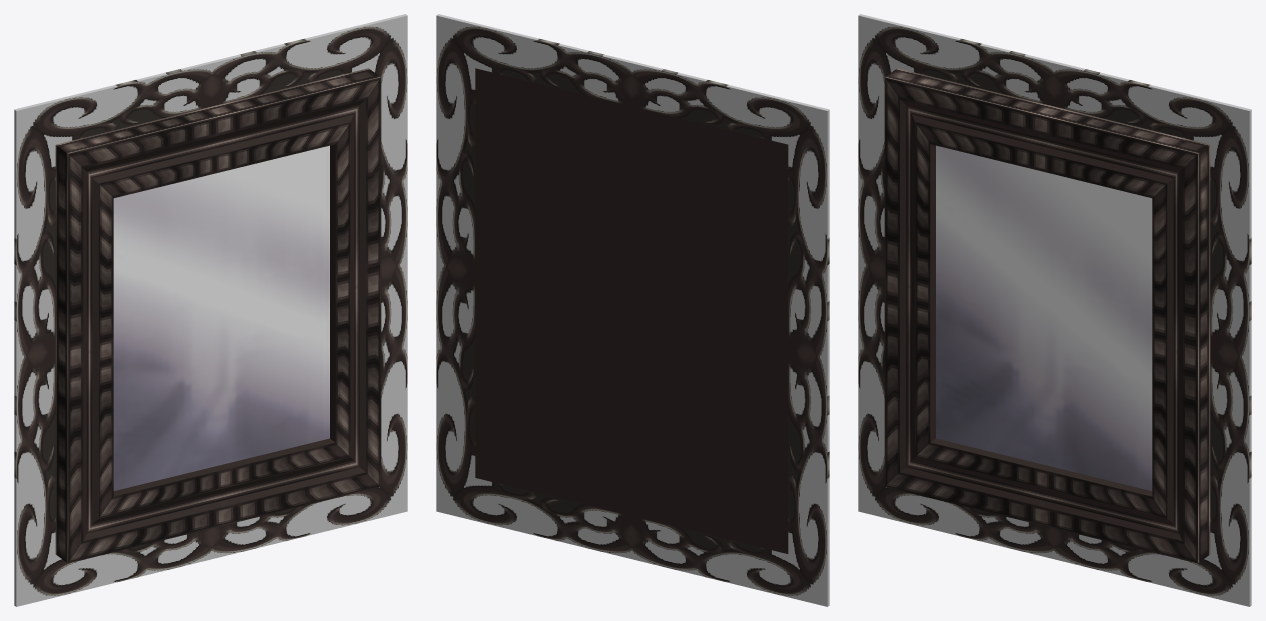
Rendered from AntiqueMirror_HD.fbx.
The picture shows the model from 3 angles, left to right: view 1: azimuth 30°, elevation 25°; view 2: azimuth 150°, elevation 25°; view 3: azimuth 330°, elevation 25°; orthographic projection.
Parts seen in each view (by area): view 1: AntiqueMirror; view 2: AntiqueMirror; view 3: AntiqueMirror.
Part boxes in pixels (x1,y1,x2,y2): AntiqueMirror: (14, 14, 407, 606); AntiqueMirror: (436, 14, 829, 606); AntiqueMirror: (858, 14, 1251, 606).
Size of the model in its own units: 0.64 by 0.7748 by 0.0417.
